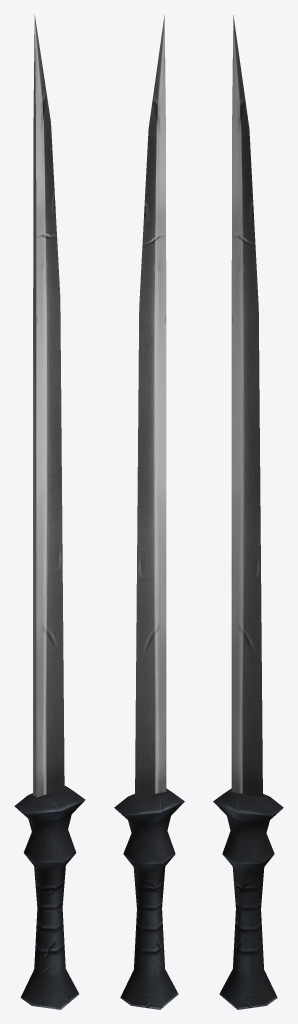
The model's file is 03_weapon.FBX.
3 views of the same model, side by side, from view 1: azimuth 30°, elevation 25°; view 2: azimuth 210°, elevation 25°; view 3: azimuth 330°, elevation 25° (orthographic).
Parts seen in each view (by area): view 1: 03_sword; view 2: 03_sword; view 3: 03_sword.
Part boxes in pixels (x1=…): 03_sword: x1=14, y1=15, x2=85, y2=1009; 03_sword: x1=114, y1=15, x2=184, y2=1009; 03_sword: x1=213, y1=15, x2=283, y2=1009.
Bounding box in the file's own units: 208 × 3291 × 157.
